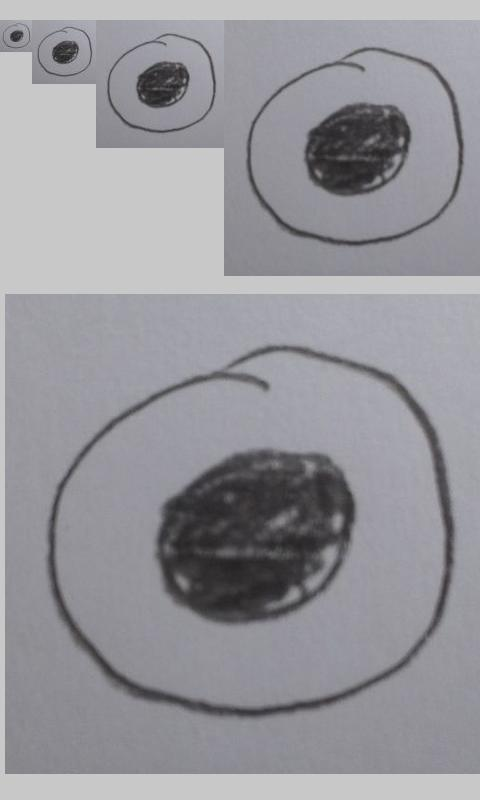radio_button: (45, 341, 457, 720), (245, 45, 464, 246), (105, 31, 217, 133), (35, 24, 93, 77), (2, 23, 31, 49)
